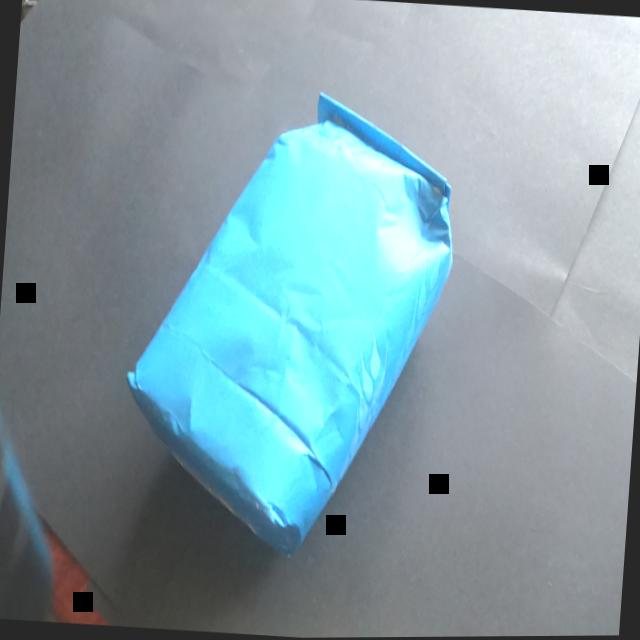Flour: (99, 61, 491, 583)
